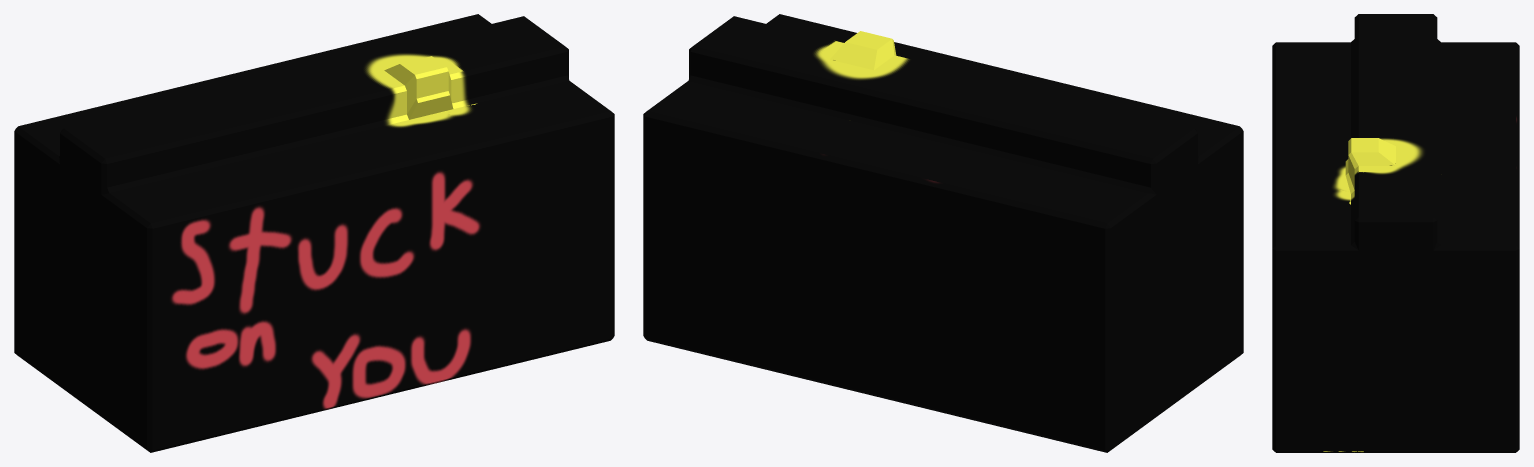
File: radio.glb
The picture shows the model from 3 angles, left to right: view 1: azimuth 30°, elevation 25°; view 2: azimuth 150°, elevation 25°; view 3: azimuth 270°, elevation 25°; orthographic projection. The views are drawn at different scales.
Parts seen in each view (by area): view 1: ItemRadio; view 2: ItemRadio; view 3: ItemRadio.
Boxes of the visible parts, x1,y1,x2,y2 form: ItemRadio: (14,14,614,452); ItemRadio: (643,14,1243,452); ItemRadio: (1272,14,1519,452).
Size of the model in its own units: 1.26 by 0.7038 by 0.6397.
Materials: 1 (1 with a texture image).
